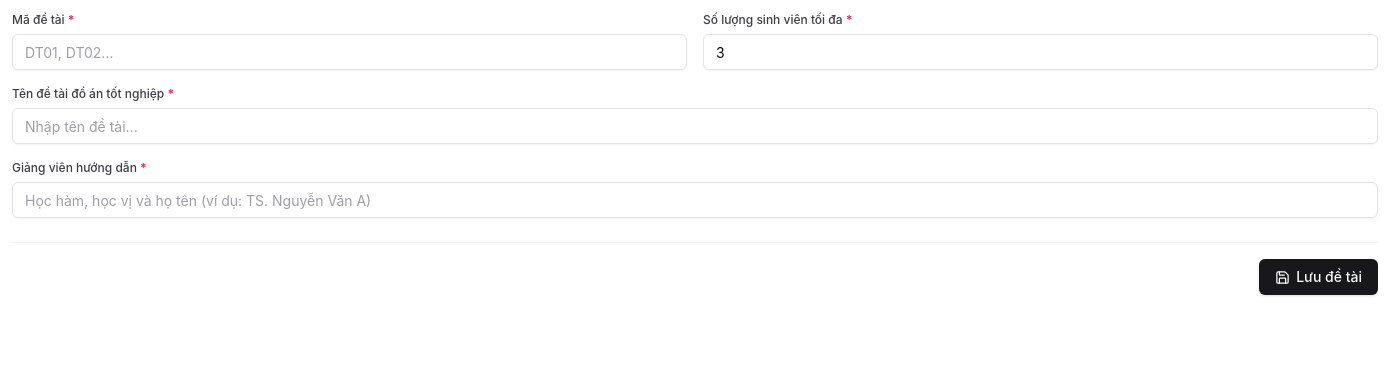
Test: ThesisForm Component (Dumb Component Unit Tests) › validates empty inputs and prevents submit
Click the button "Lưu đề tài". click: (1319, 277)
box: [1259,259,1378,295]
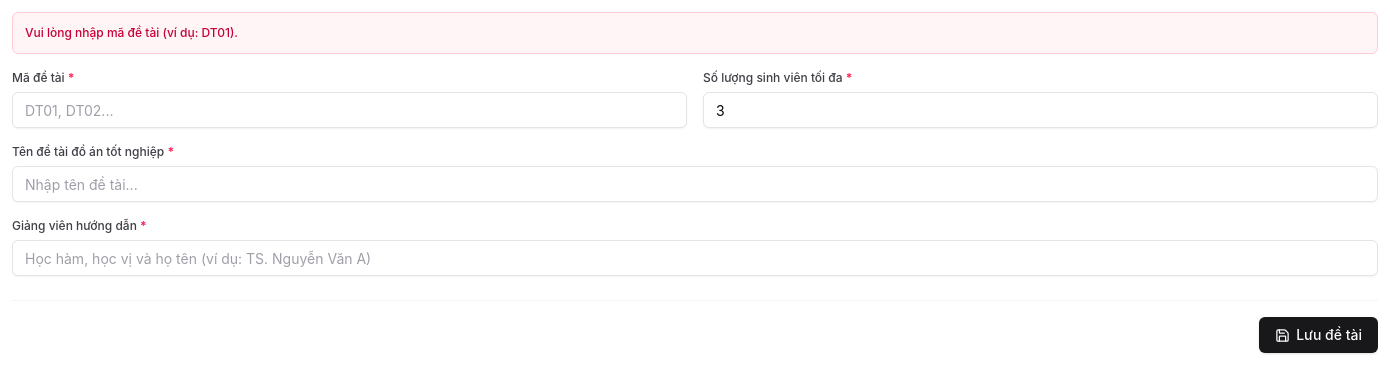
expect the text "Vui lòng nhập mã đề tài (ví dụ: DT01)." is shown: met, box [12,12,1378,54]
